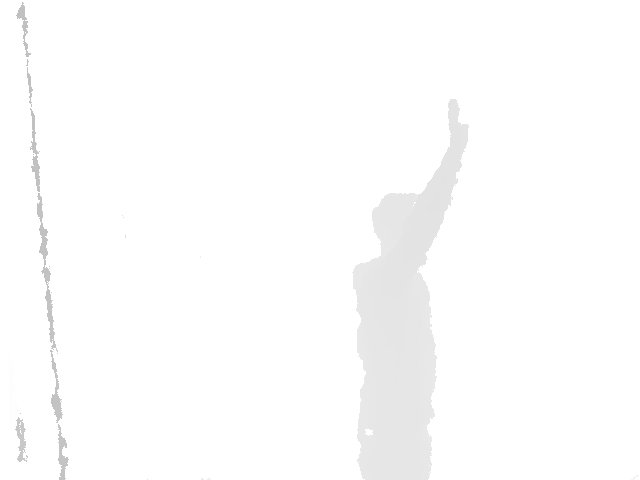hand: (447, 98, 470, 154)
head: (371, 192, 435, 255)
person: (351, 99, 471, 480)
